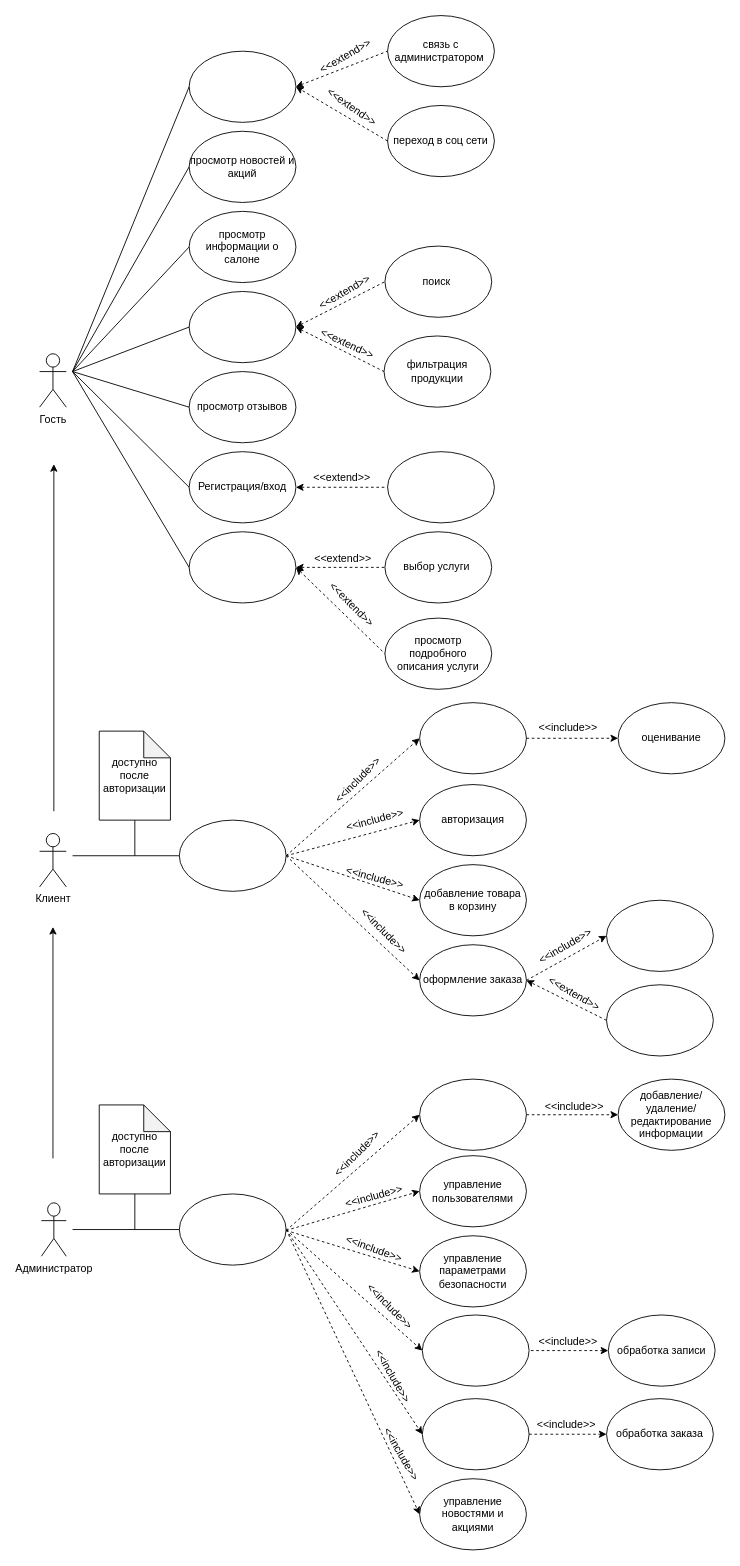
Some shapes in this 740 by 1566 pixel diagram are drawn without their labels. The centre of each missing label's shape, as x and y in pixels:
"добавление фото профиля" belongs at point (440, 487).
"оплата" belongs at point (659, 935).
"оставление отзыва" belongs at point (472, 738).
"проверка статуса заказа" belongs at point (659, 1020).
"просмотр каталога продукции" belongs at point (242, 327).
"просмотр контактных данных" belongs at point (242, 86).
"просмотр услуг" belongs at point (242, 567).
"работа в административной панели" belongs at point (232, 1229).
"работа в личном кабинете" belongs at point (232, 855).
"управление заказами" belongs at point (475, 1434).
"управление записями на различные услуги" belongs at point (475, 1350).
"управление каталогом продукции" belongs at point (472, 1114).
